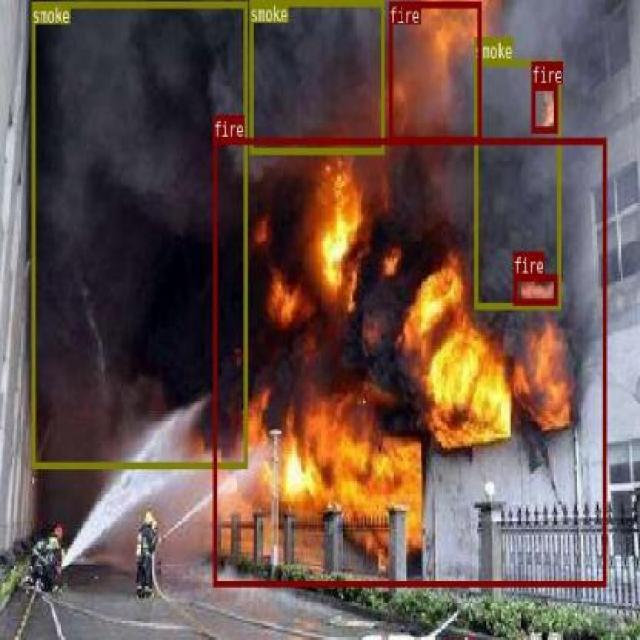Fire: (212, 137, 606, 586), (388, 0, 481, 142), (512, 273, 557, 304), (531, 83, 557, 131)
Smoke: (30, 0, 247, 468), (474, 59, 560, 308), (248, 0, 383, 152)
